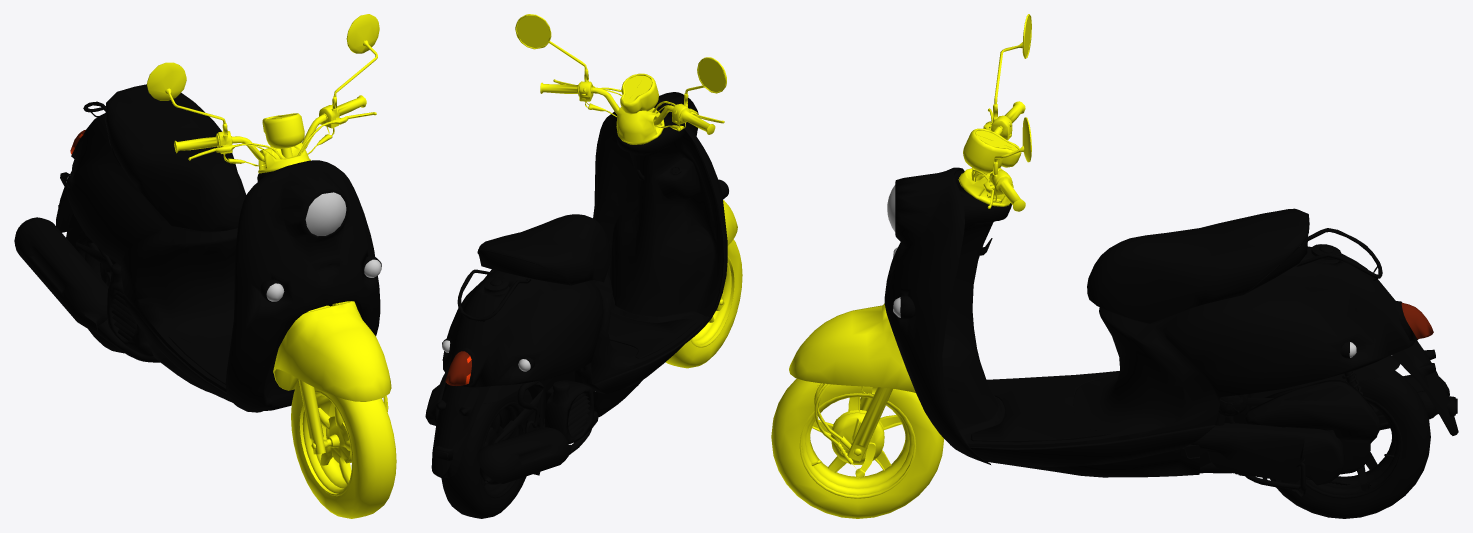
File: vino.glb
3 views of the same model, side by side, from view 1: azimuth 30°, elevation 25°; view 2: azimuth 150°, elevation 25°; view 3: azimuth 270°, elevation 25° (orthographic). The views are drawn at different scales.
Visible parts, largest first — view 1: Plane003; view 2: Plane003; view 3: Plane003.
Part boxes in pixels (box(x1,y1,x2,y2)): Plane003: box(14, 14, 396, 518); Plane003: box(425, 14, 742, 518); Plane003: box(771, 14, 1458, 518).
Size of the model in its own units: 0.6787 by 1.16 by 1.62.
